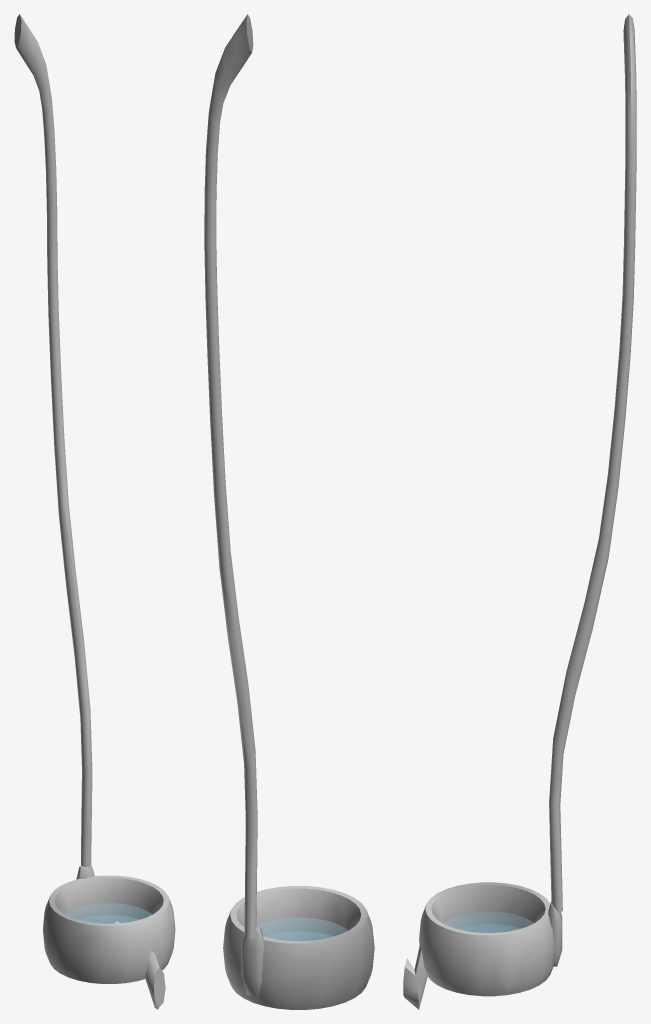
Rendered from SM_Crew_GlassL.fbx.
3 views of the same model, side by side, from view 1: azimuth 30°, elevation 25°; view 2: azimuth 150°, elevation 25°; view 3: azimuth 270°, elevation 25° (orthographic). The views are drawn at different scales.
Parts seen in each view (by area): view 1: SM_Crew_GlassL; view 2: SM_Crew_GlassL; view 3: SM_Crew_GlassL.
Boxes of the visible parts, left/top/right/bottom form: SM_Crew_GlassL: left=14, top=14, right=175, bottom=1009; SM_Crew_GlassL: left=204, top=14, right=374, bottom=1009; SM_Crew_GlassL: left=403, top=14, right=636, bottom=1009.
Bounding box in the file's own units: 95.08 × 741 × 161.
